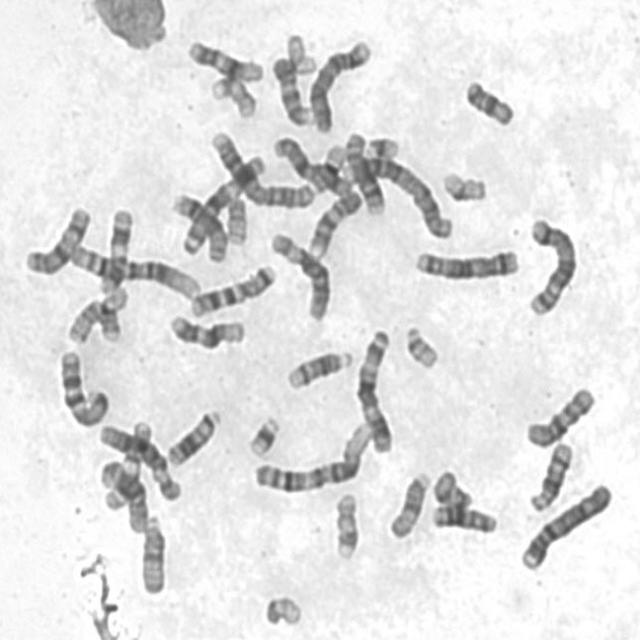A1: (248, 415, 374, 495), (65, 238, 203, 302)
A2: (337, 149, 454, 239), (204, 125, 317, 210)
A3: (176, 147, 268, 257), (351, 322, 396, 455)
B4: (515, 475, 615, 573), (304, 33, 374, 135)
B5: (522, 212, 580, 318), (409, 242, 521, 282)
C10: (520, 380, 598, 450), (95, 454, 149, 535)
C11: (101, 415, 156, 511), (96, 203, 135, 295)
C12: (182, 34, 266, 84), (164, 308, 248, 352)
C6: (95, 417, 184, 503), (265, 225, 334, 323)
C7: (184, 258, 278, 320), (54, 344, 111, 428)
C8: (168, 188, 242, 274), (340, 127, 388, 217)
C9: (302, 186, 363, 258), (268, 50, 315, 127)
D13: (161, 402, 224, 468), (426, 498, 499, 536)
D14: (524, 435, 576, 513), (280, 344, 354, 392)
D15: (383, 465, 433, 541), (134, 508, 168, 598)
E16: (94, 285, 130, 349), (315, 140, 348, 194)
E17: (205, 70, 259, 120), (328, 485, 361, 563)
E18: (459, 72, 518, 128), (66, 293, 109, 354)
F19: (437, 165, 490, 205), (281, 26, 319, 76)
F20: (428, 464, 474, 510), (223, 198, 255, 246)
G21: (243, 408, 282, 459), (361, 129, 401, 160)
G22: (400, 320, 441, 370), (264, 594, 305, 629)
X: (268, 130, 354, 198), (19, 200, 93, 277)
